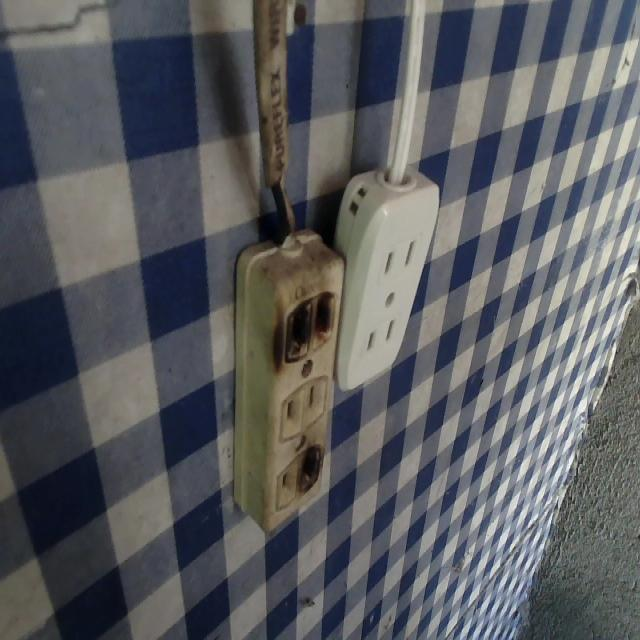-: (275, 287, 336, 360), (296, 440, 328, 500)
